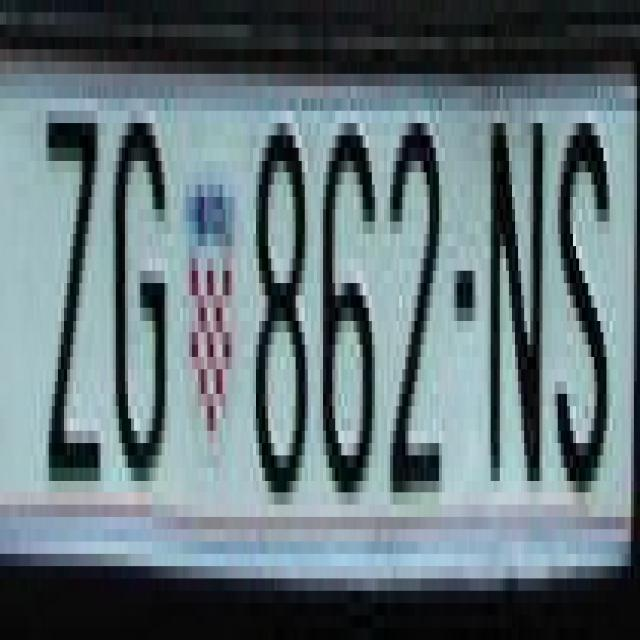2: (387, 99, 448, 492)
6: (314, 111, 384, 517)
8: (247, 99, 305, 492)
G: (112, 86, 174, 480)
N: (482, 74, 548, 492)
S: (552, 99, 612, 492)
Z: (42, 86, 104, 480)
